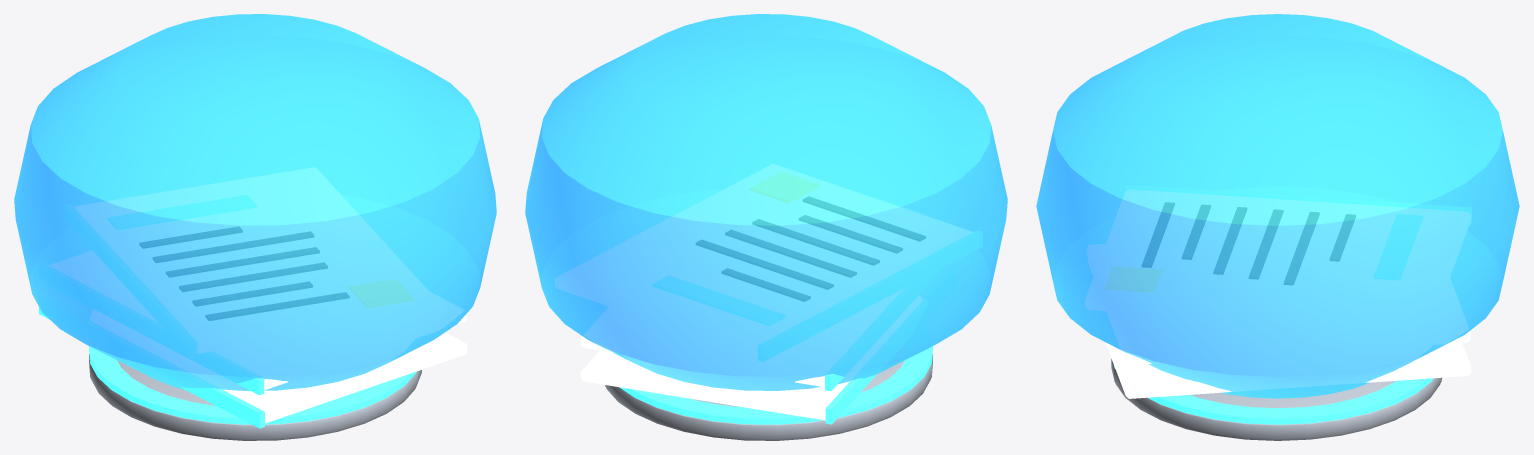
The model's file is holo_capsule.glb.
3 views of the same model, side by side, from view 1: azimuth 30°, elevation 25°; view 2: azimuth 150°, elevation 25°; view 3: azimuth 270°, elevation 25° (orthographic).
Visible parts, largest first — view 1: holo_capsule; view 2: holo_capsule; view 3: holo_capsule.
Boxes of the visible parts, <box> form: holo_capsule: <box>14,14,496,440</box>; holo_capsule: <box>525,14,1007,440</box>; holo_capsule: <box>1036,14,1519,440</box>.
Size of the model in its own units: 0.29 by 0.205 by 0.29.
